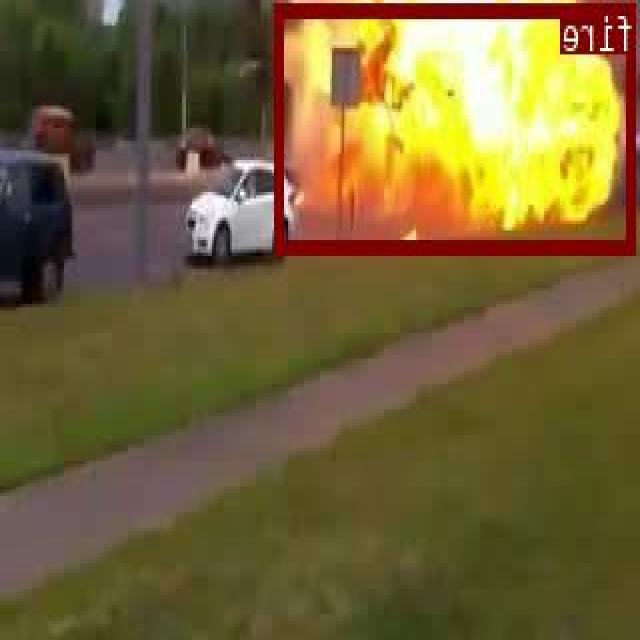fire: (276, 1, 636, 252)
